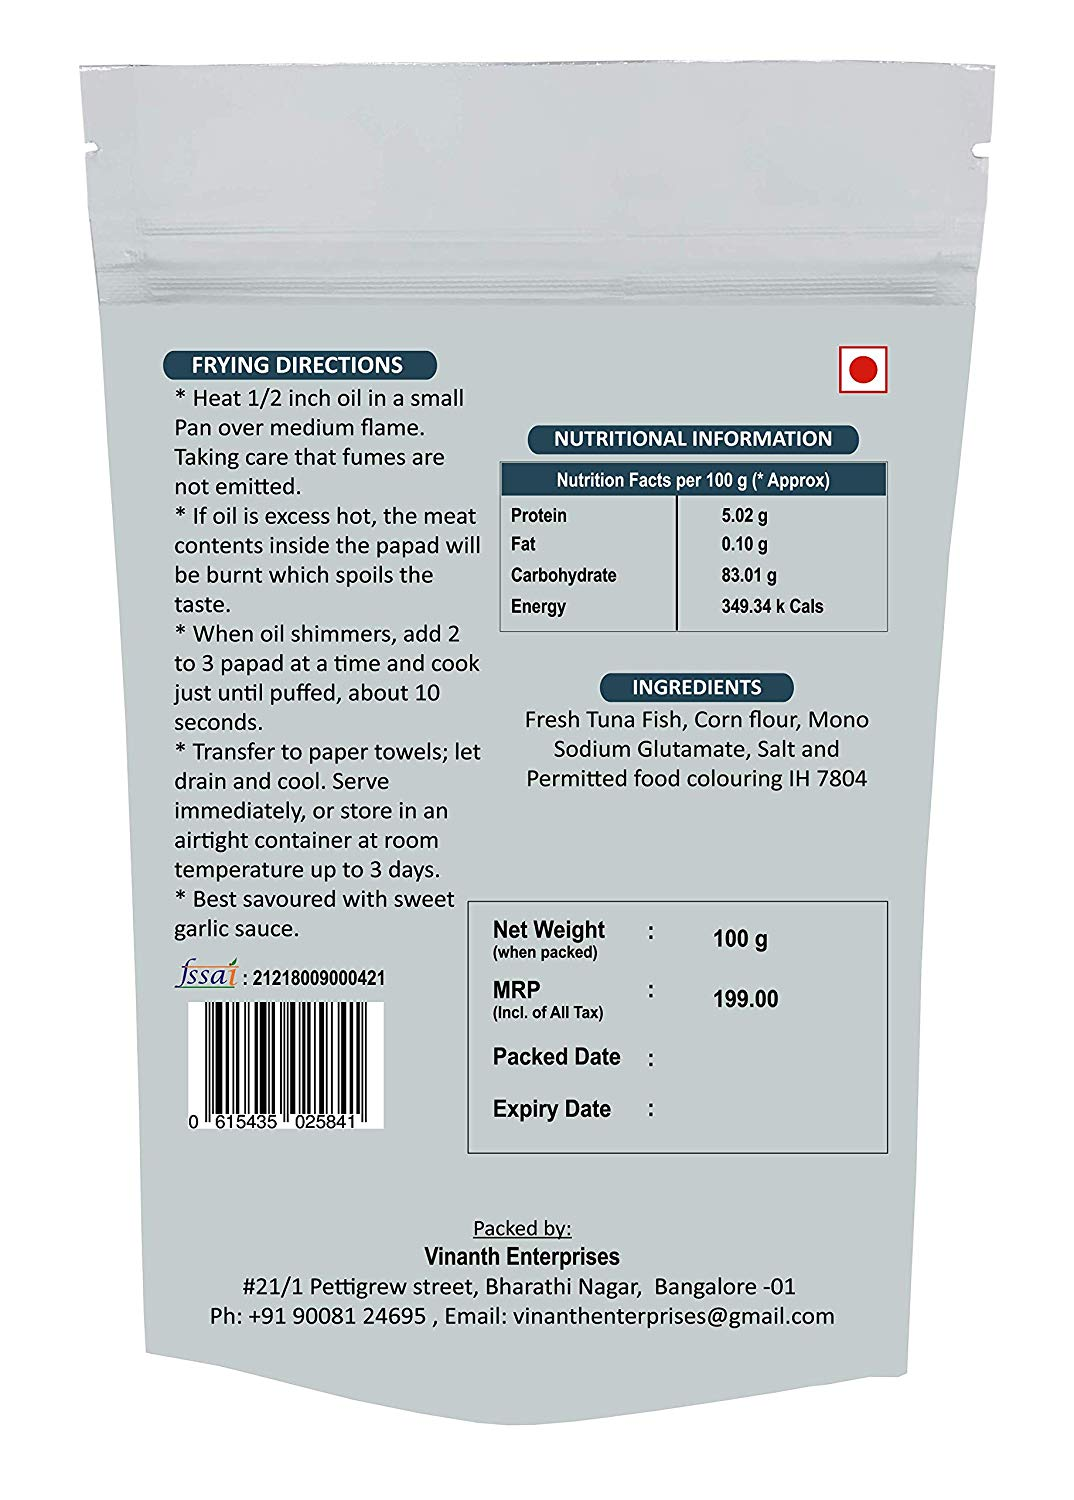nonveg_red: (836, 343, 892, 399)
